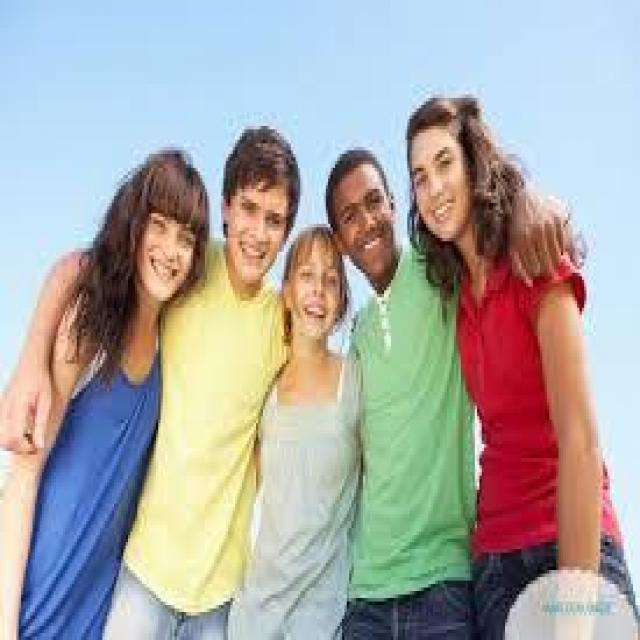person: (391, 84, 635, 636), (308, 126, 472, 636), (56, 98, 214, 594), (191, 66, 293, 636), (251, 168, 361, 636)
